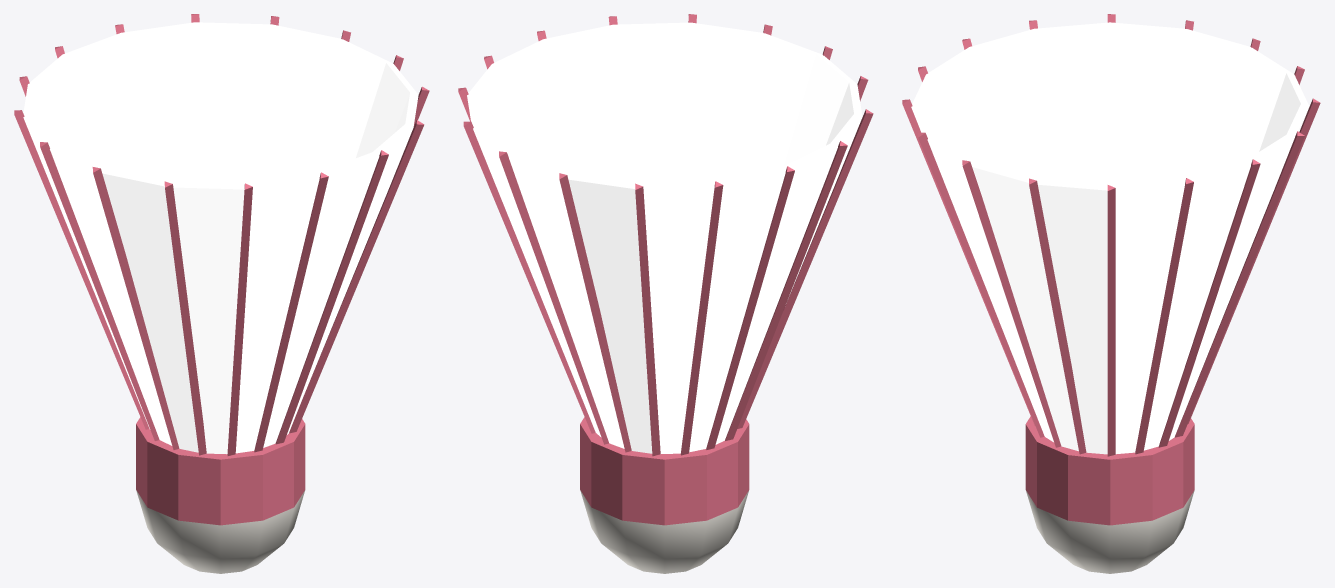
Rendered from shuttle.glb.
3 views of the same model, side by side, from view 1: azimuth 30°, elevation 25°; view 2: azimuth 150°, elevation 25°; view 3: azimuth 270°, elevation 25° (orthographic).
Parts seen in each view (by area): view 1: Skirt, Ribs, Band, Cork; view 2: Skirt, Ribs, Band, Cork; view 3: Skirt, Ribs, Band, Cork.
Boxes of the visible parts, box(x1,y1,x2,y2) form: Skirt: box(23, 22, 418, 454); Ribs: box(14, 14, 429, 455); Band: box(136, 417, 305, 525); Cork: box(136, 490, 305, 573); Skirt: box(467, 22, 862, 453); Ribs: box(458, 14, 873, 456); Band: box(580, 417, 749, 525); Cork: box(580, 490, 748, 573); Skirt: box(911, 22, 1309, 454); Ribs: box(902, 14, 1320, 456); Band: box(1025, 416, 1194, 525); Cork: box(1026, 490, 1194, 573).
Bounding box in the file's own units: 0.0695 × 0.0853 × 0.0693.
